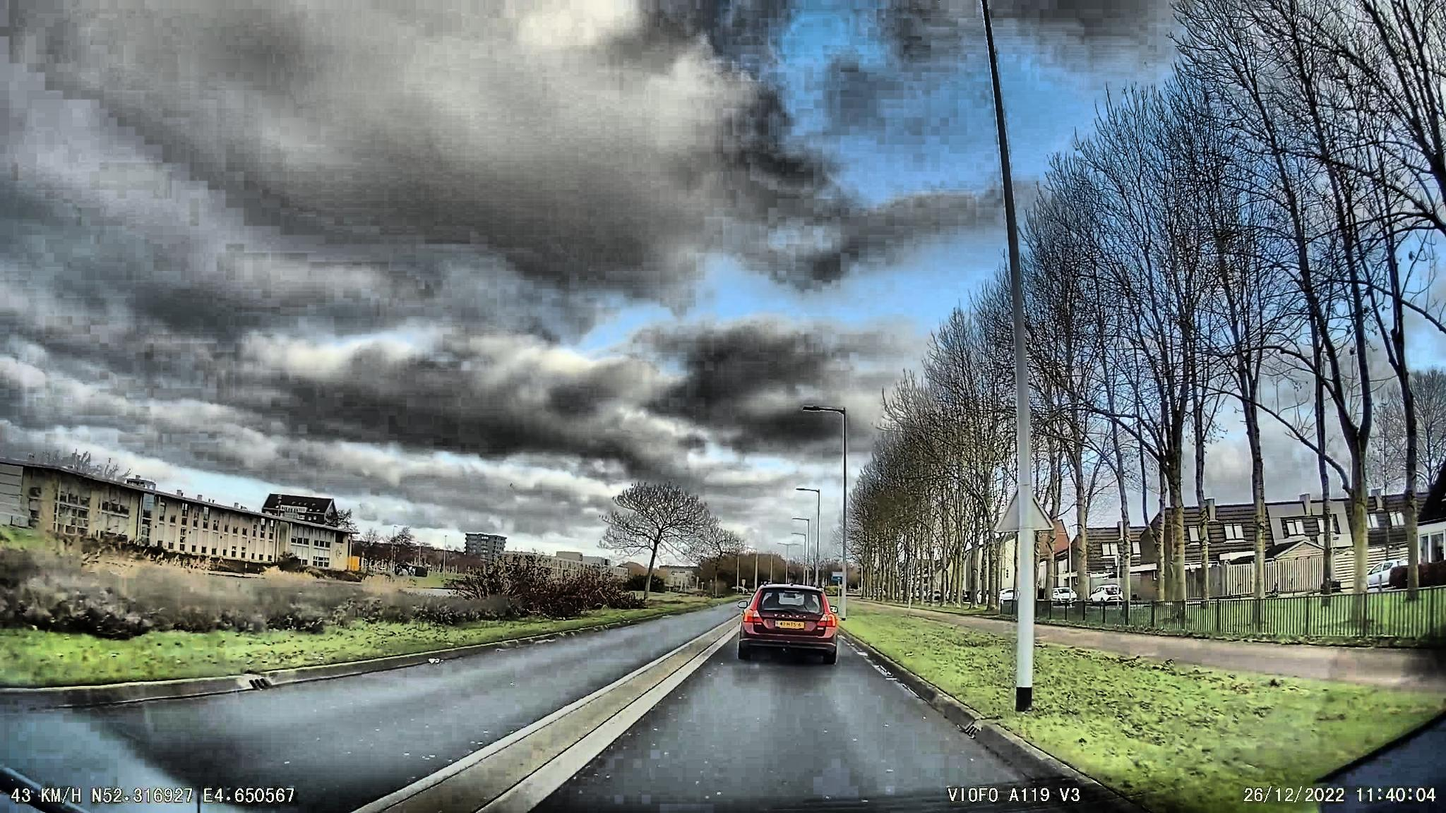Roads: (0, 605, 1135, 813)
